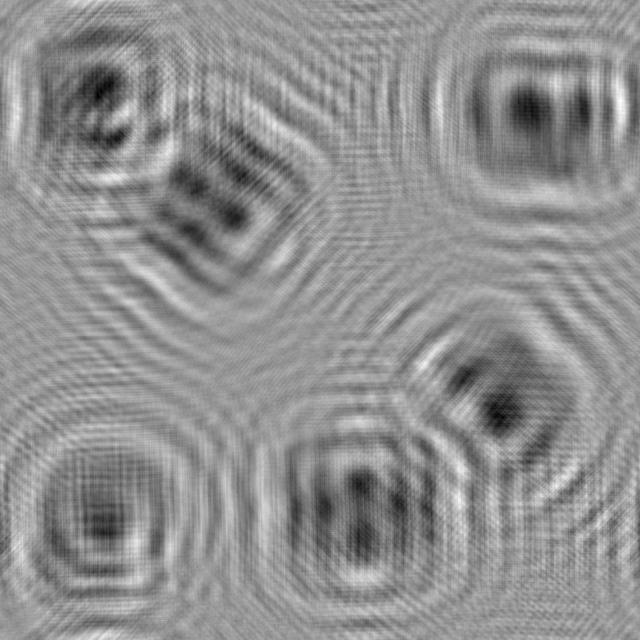F: (357, 261, 633, 544), (411, 0, 640, 233), (0, 0, 193, 199)
H: (66, 62, 354, 314), (226, 401, 493, 628)
J: (0, 393, 233, 640)
